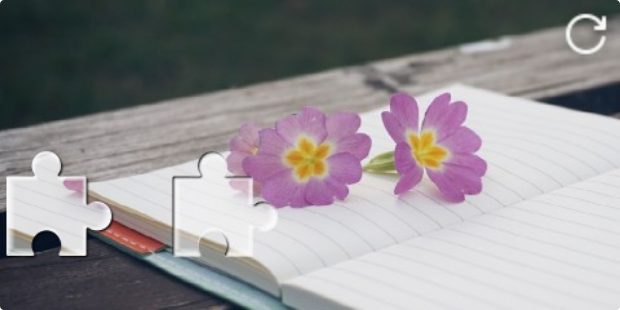target: (172, 151, 278, 256)
